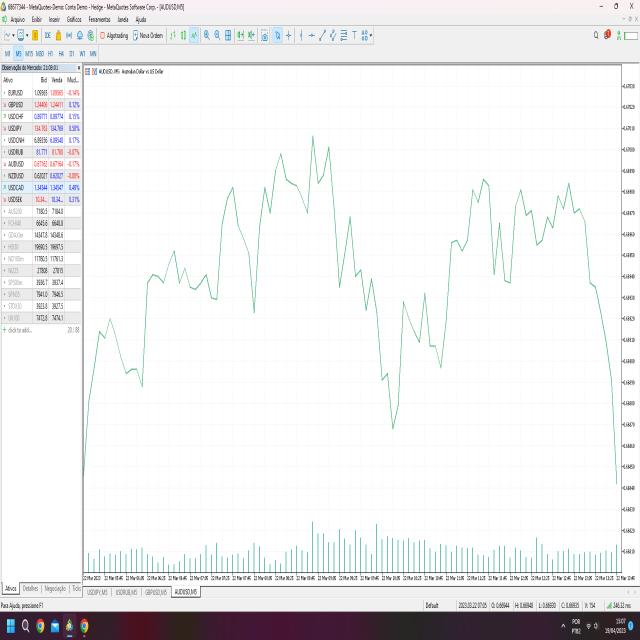bandeira_alta: (142, 231, 204, 390)
bandeira_baixa: (324, 110, 378, 312)
